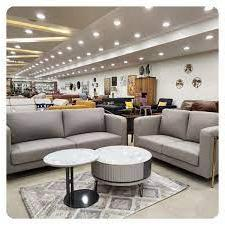chair: (137, 95, 152, 116)
light: (34, 10, 47, 24), (21, 27, 39, 36), (203, 32, 215, 43), (113, 16, 124, 28), (130, 30, 142, 41), (178, 44, 192, 53), (158, 20, 172, 29), (91, 29, 103, 39), (76, 38, 86, 49), (156, 50, 167, 58), (110, 40, 121, 48), (141, 6, 155, 12), (48, 54, 60, 61), (122, 58, 130, 68), (10, 42, 22, 48), (203, 6, 215, 12), (8, 50, 18, 57), (108, 62, 119, 68), (74, 54, 82, 62), (66, 42, 71, 53), (43, 56, 49, 64), (91, 65, 96, 74), (139, 55, 145, 62), (55, 72, 61, 79), (86, 51, 92, 58), (49, 72, 53, 81), (53, 63, 59, 69), (36, 68, 40, 77), (100, 45, 104, 53), (68, 57, 72, 65), (100, 64, 105, 70), (42, 67, 47, 73), (83, 68, 87, 75), (38, 60, 42, 67), (59, 49, 62, 58), (77, 70, 80, 78), (30, 64, 33, 72), (71, 70, 74, 77), (65, 72, 70, 76), (50, 66, 55, 70), (62, 61, 65, 67), (26, 66, 28, 74), (33, 63, 37, 66), (61, 72, 63, 77)
sofa: (0, 106, 126, 174), (132, 110, 219, 186)
table: (94, 144, 149, 194), (49, 150, 98, 206), (101, 93, 136, 112)
